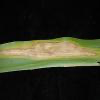Corn leaf blight: (0, 38, 100, 70)
